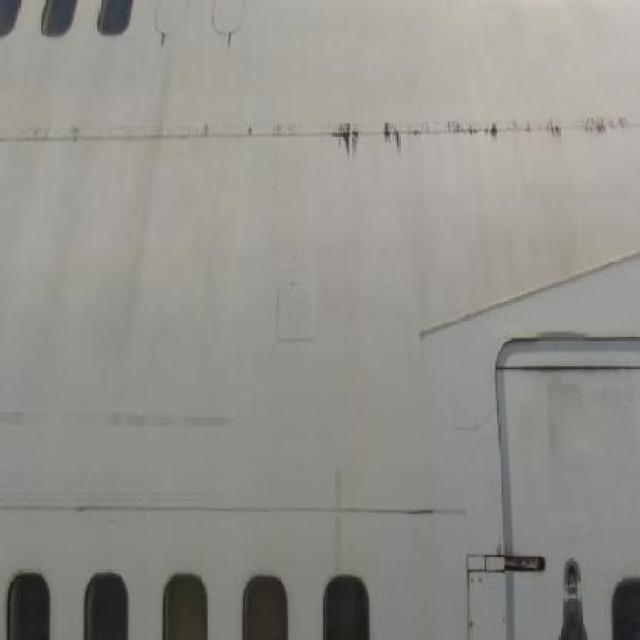Rust: (321, 109, 640, 162), (154, 30, 172, 59), (223, 30, 235, 55)
Scartch: (2, 383, 261, 445), (535, 369, 640, 466)
